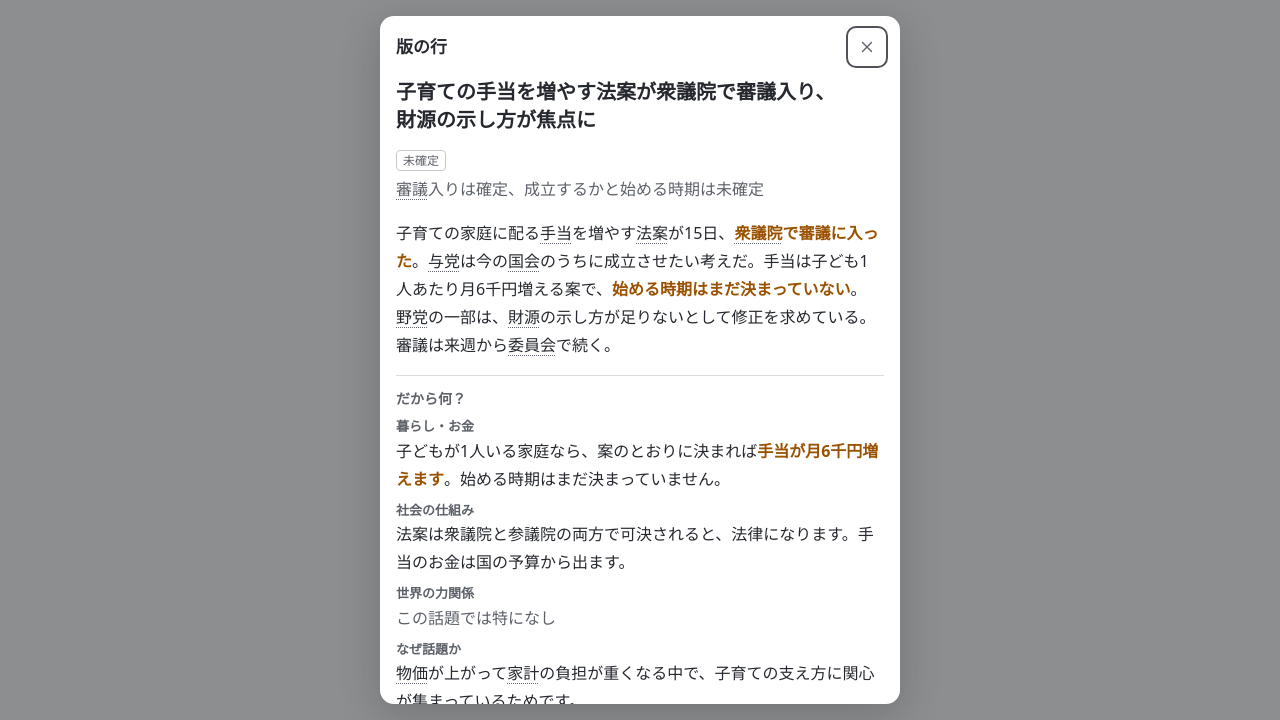
Test case: 説明の箱の Esc（設計: 段階2の 1.12・2.） › 箱が開いている時の Esc は箱だけ閉じ（シートの onClose を呼ばない）、フォーカスは語へ。次の Esc でシートが閉じる
Later steps or results of the test are not shown.
Click the button with test id "term-mark" showing "審議" at (412, 189), box [396,175,428,203]
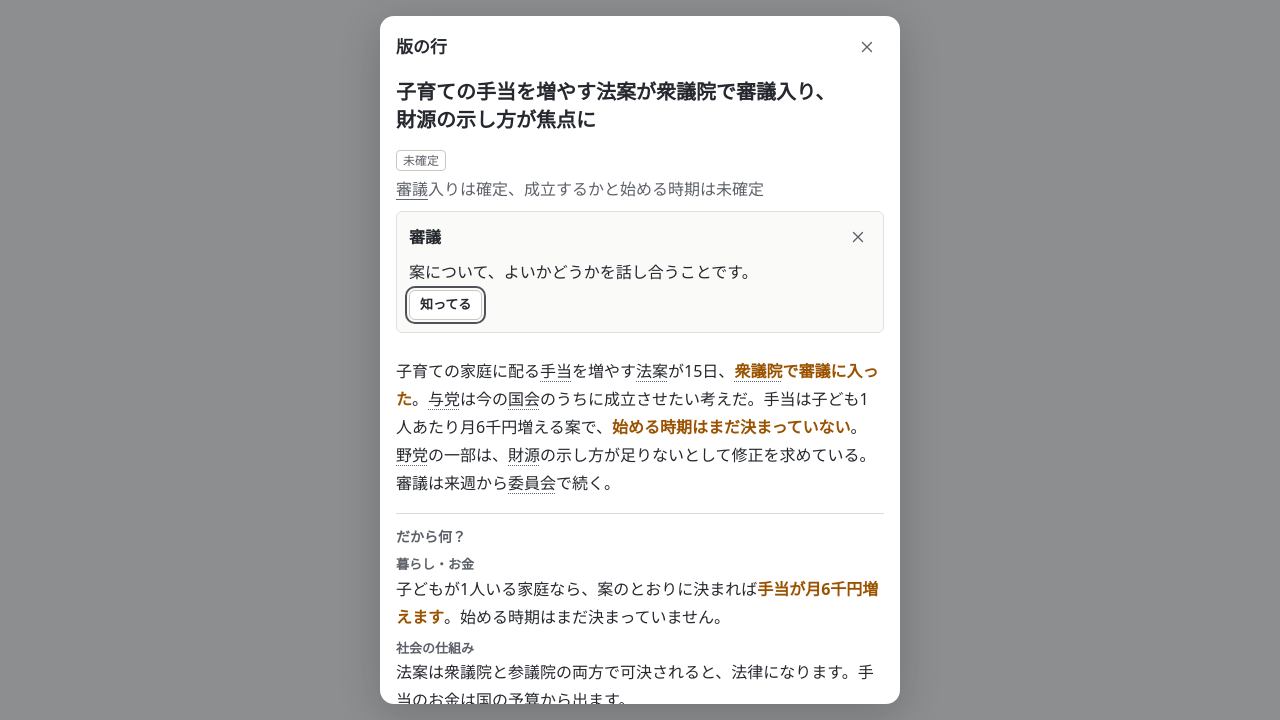
Press Escape in the button with test id "term-known", box [409,290,482,320]
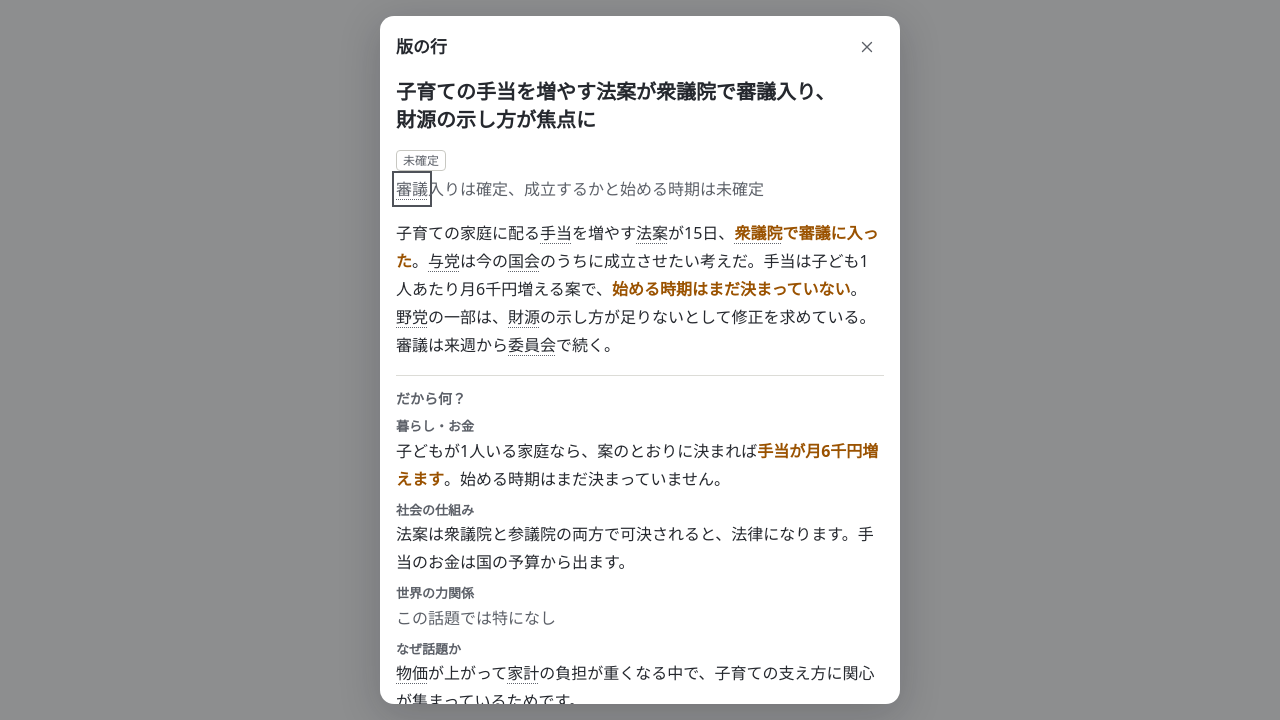
Check: the element with test id "term-note" is gone
